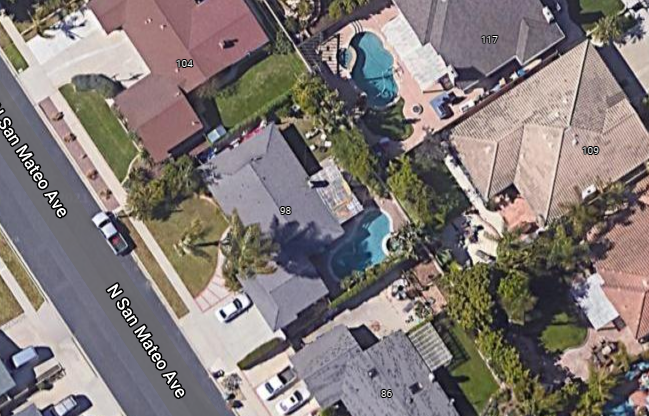poolww: (325, 205, 398, 284), (336, 28, 403, 105)
